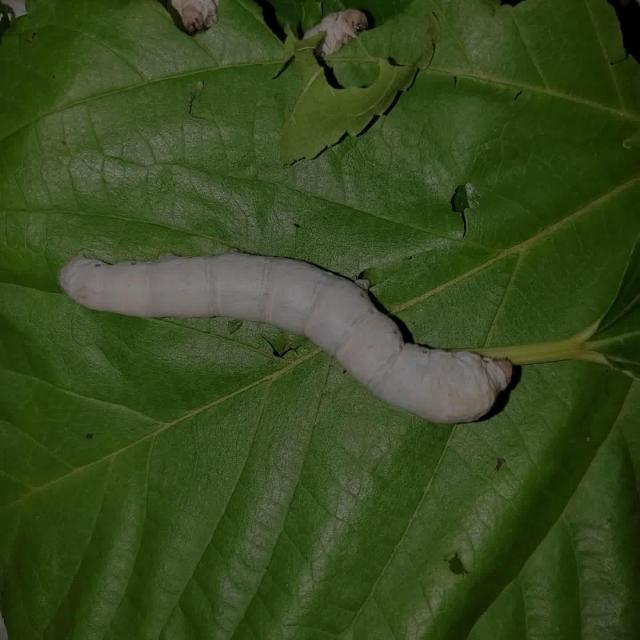Healthy: (54, 229, 534, 444)
